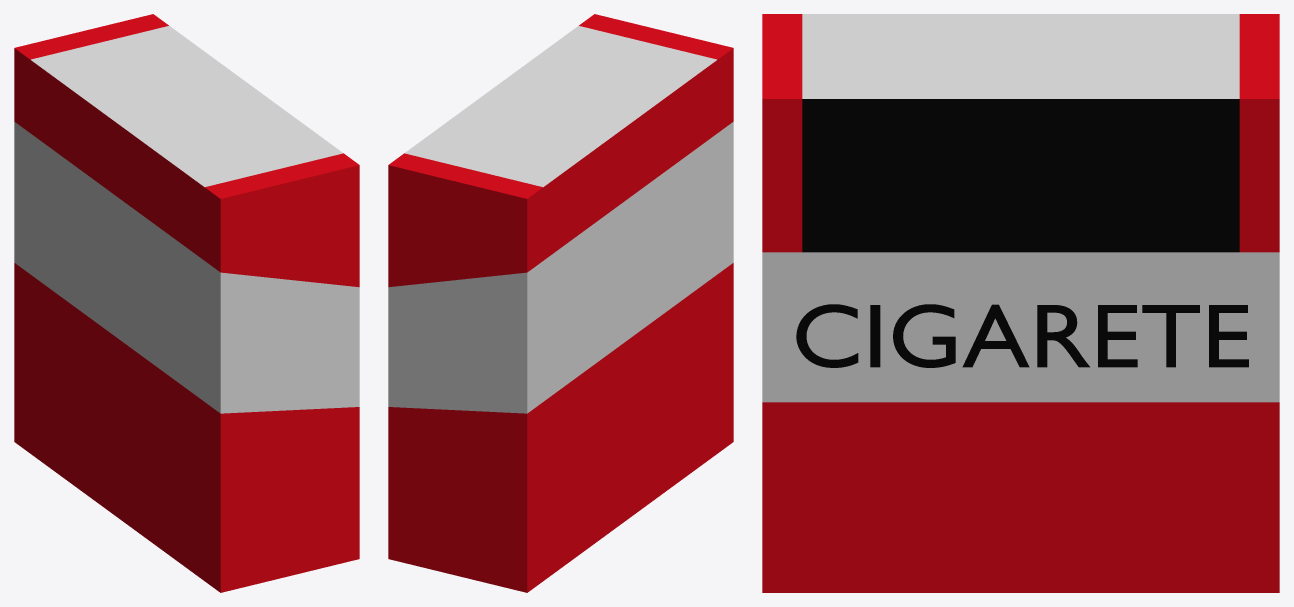
The model's file is Cigarete.fbx.
3 views of the same model, side by side, from view 1: azimuth 30°, elevation 25°; view 2: azimuth 150°, elevation 25°; view 3: azimuth 270°, elevation 25° (orthographic). The views are drawn at different scales.
Parts seen in each view (by area): view 1: Cube; view 2: Cube; view 3: Cube, Text.
Part boxes in pixels (left/top/right/bottom): Cube: left=14, top=14, right=359, bottom=592; Cube: left=388, top=14, right=733, bottom=592; Cube: left=762, top=14, right=1279, bottom=592; Text: left=796, top=304, right=1248, bottom=367.
Bounding box in the file's own units: 206 × 541 × 514.
